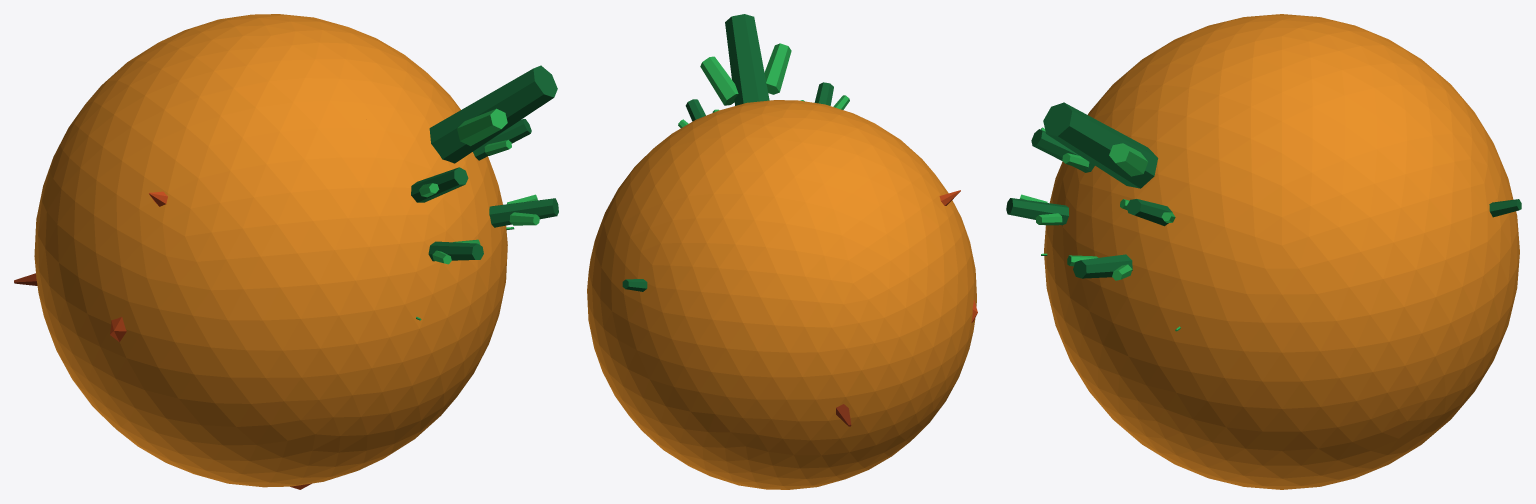
Rendered from Desert_02.fbx.
The picture shows the model from 3 angles, left to right: view 1: azimuth 30°, elevation 25°; view 2: azimuth 150°, elevation 25°; view 3: azimuth 270°, elevation 25°; orthographic projection. The views are drawn at different scales.
Parts seen in each view (by area): view 1: Desert_02; view 2: Desert_02; view 3: Desert_02.
Boxes of the visible parts, x1,y1,x2,y2 form: Desert_02: (14, 14, 558, 489); Desert_02: (587, 14, 977, 489); Desert_02: (1006, 14, 1521, 489).
Size of the model in its own units: 6 by 6.13 by 6.5.
Materials: 1 (1 with a texture image).
